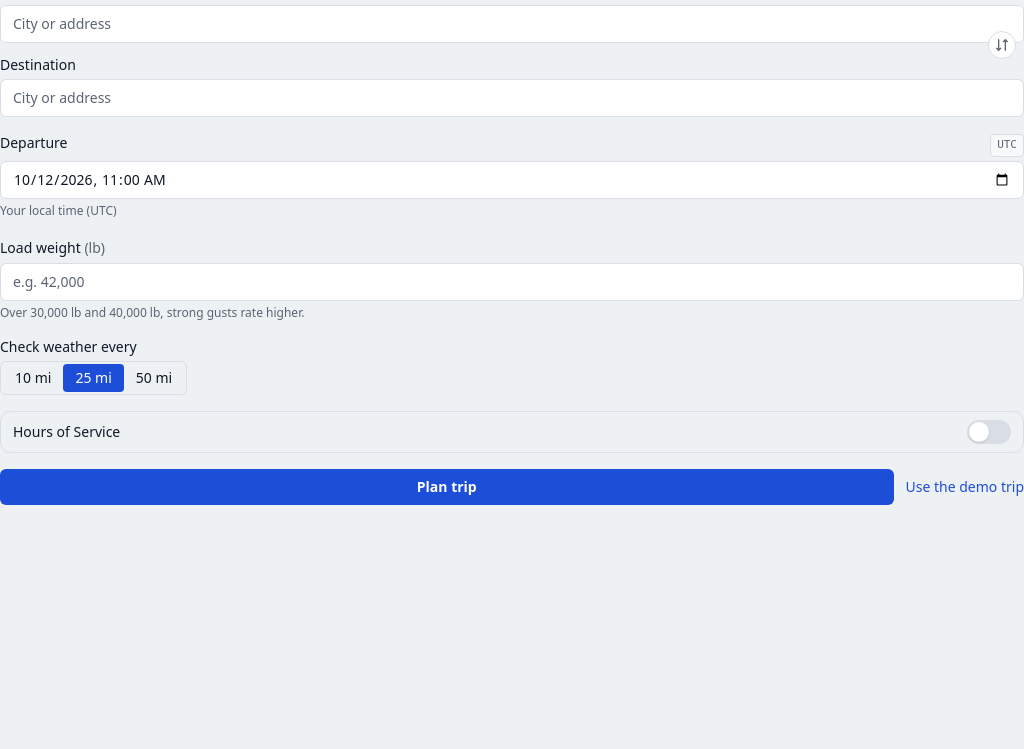
it: Hours of Service fields › explain how stops are calculated
This screenshot has width=1024, height=749.
Click the switch named "Hours of Service".
click(989, 432)  # box [967, 420, 1011, 444]
(page scrolled)
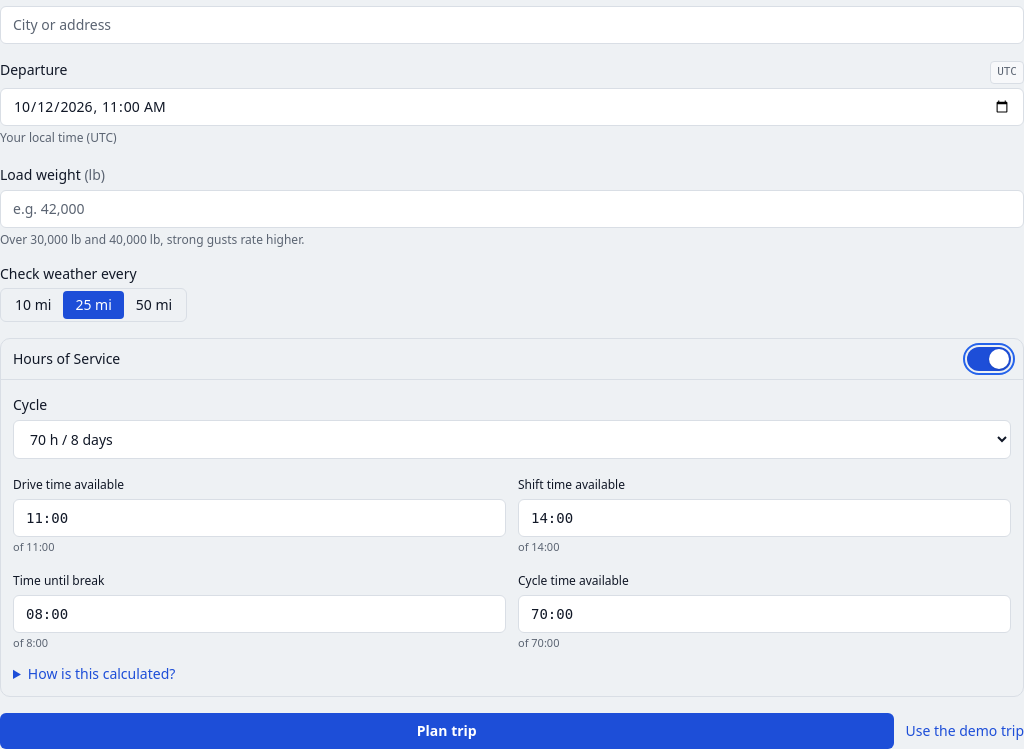
Click the heading "How is this calculated?".
click(102, 673)  # box [28, 664, 175, 682]
(page scrolled)
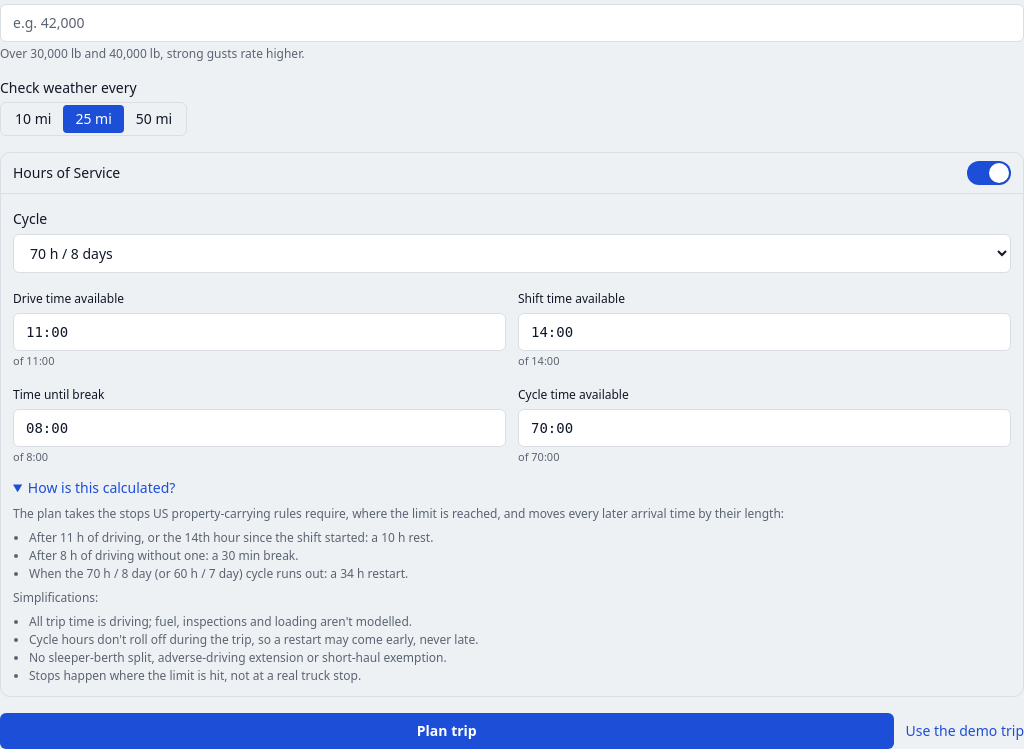
Result: the list item "a 34 h restart" is shown at [29, 564, 408, 582]
